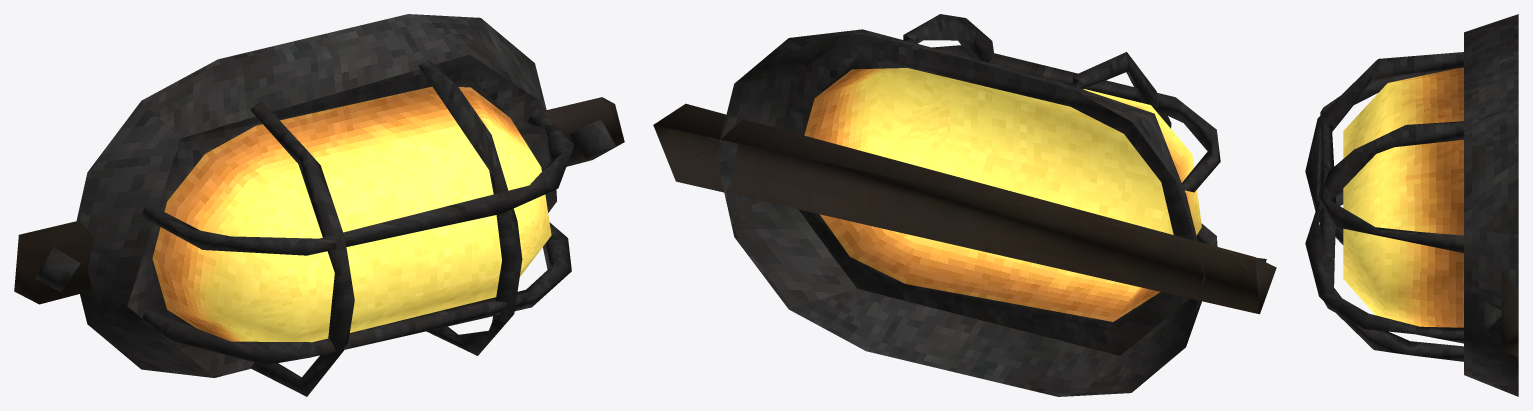
File: lamp_2_on.glb
3 renders of one model, left to right at view 1: azimuth 30°, elevation 25°; view 2: azimuth 150°, elevation 25°; view 3: azimuth 270°, elevation 25°, orthographic. The views are drawn at different scales.
Visible parts, largest first — view 1: lamp_2_on; view 2: lamp_2_on; view 3: lamp_2_on.
Boxes of the visible parts, x1,y1,x2,y2 form: lamp_2_on: (14,14,624,396); lamp_2_on: (653,14,1276,396); lamp_2_on: (1305,14,1518,396).
Size of the model in its own units: 0.3629 by 0.1792 by 0.1252.
Materials: 4 (4 with a texture image).
